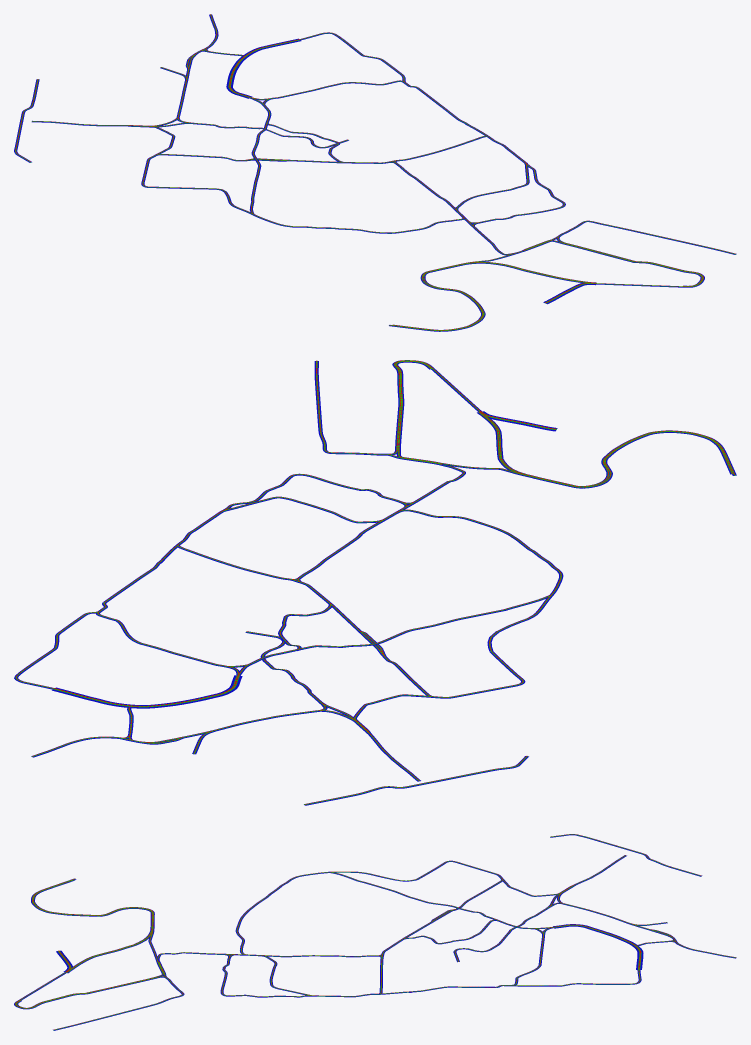
Rendered from 3dmap_metro.glb.
3 views of the same model, one above another, from view 1: azimuth 30°, elevation 25°; view 2: azimuth 150°, elevation 25°; view 3: azimuth 270°, elevation 25° (orthographic). The views are drawn at different scales.
Visible parts, largest first — view 1: submesh_00_LOD_1; view 2: submesh_00_LOD_1; view 3: submesh_00_LOD_1.
Boxes of the visible parts, x1,y1,x2,y2 form: submesh_00_LOD_1: [14, 14, 736, 331]; submesh_00_LOD_1: [14, 360, 736, 805]; submesh_00_LOD_1: [14, 834, 736, 1030].
Bounding box in the file's own units: 3091 × 133 × 4806.
